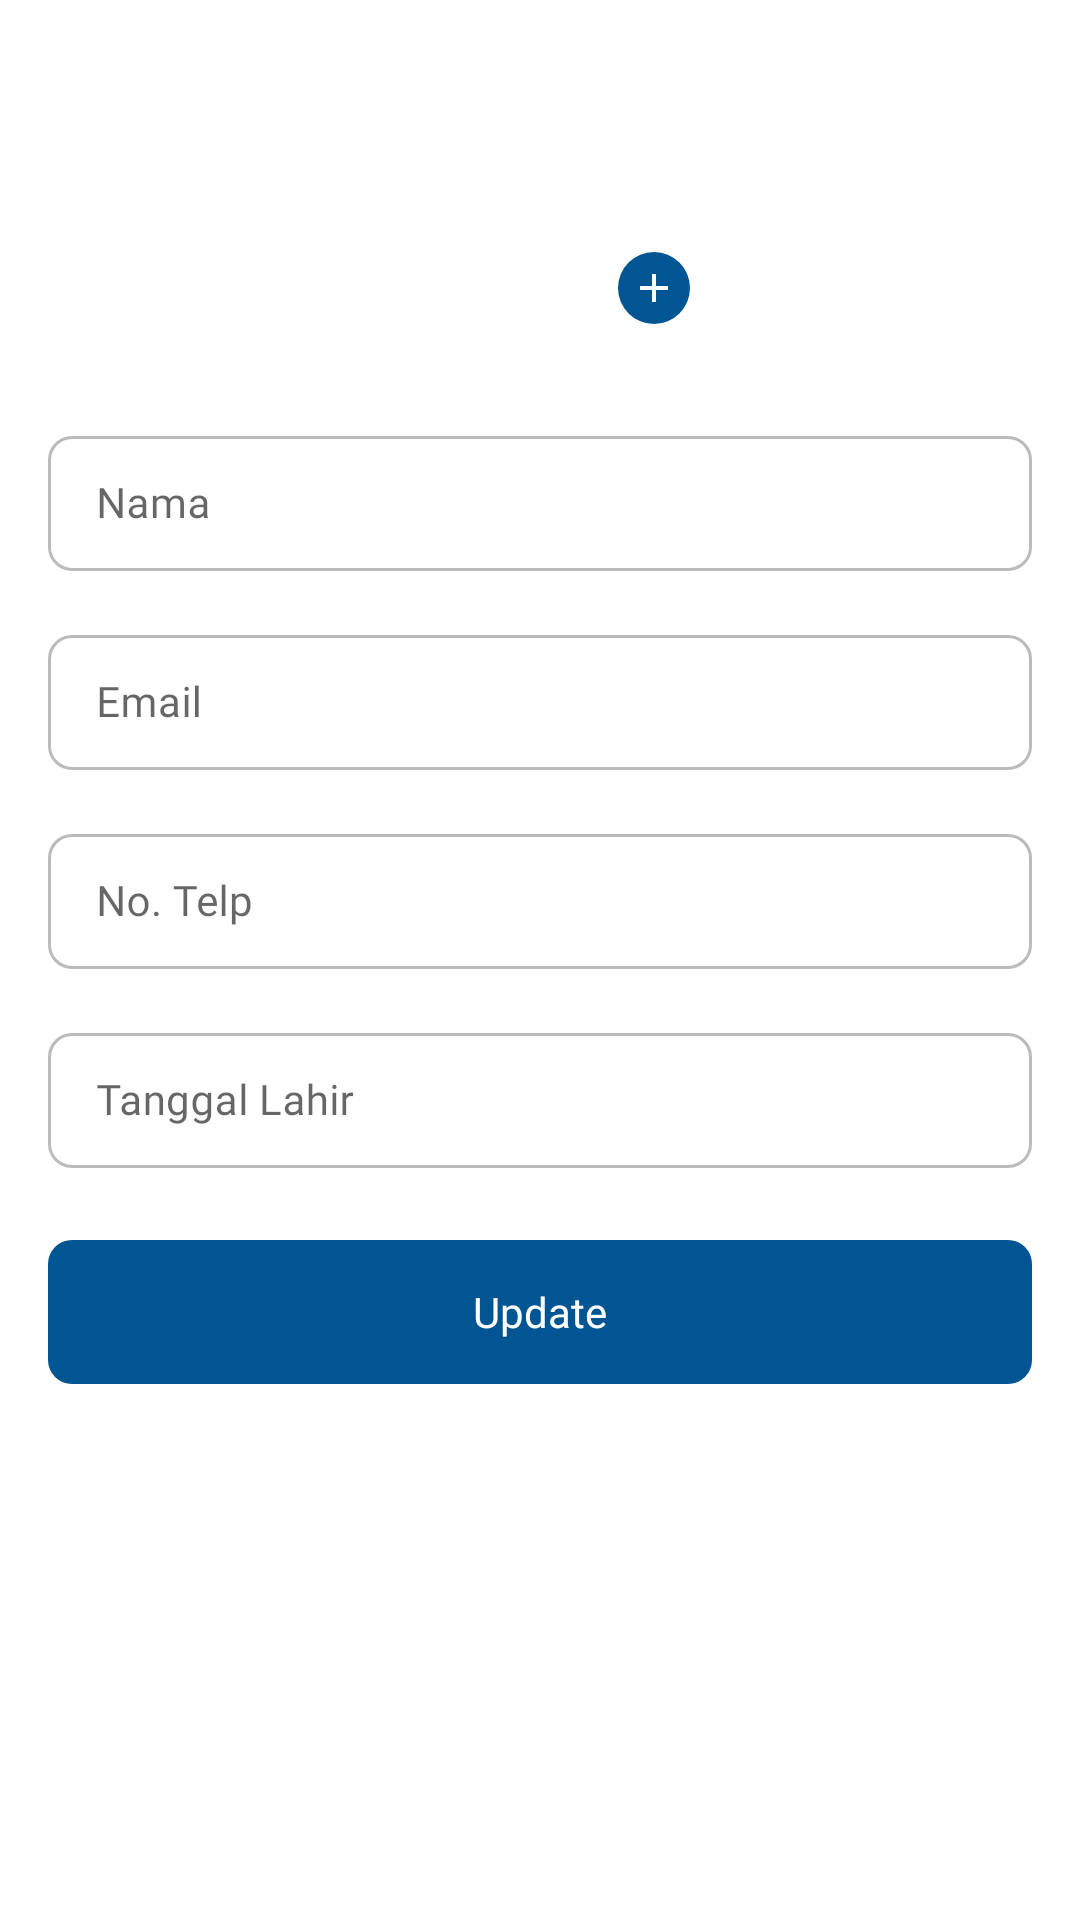

Icons on this 1080 x 1920 Android screen, each with its box as [left=x1, top=y1, right=x2, bottom=y2]:
Tombol Tambah Avatar: [left=618, top=252, right=690, bottom=324]
